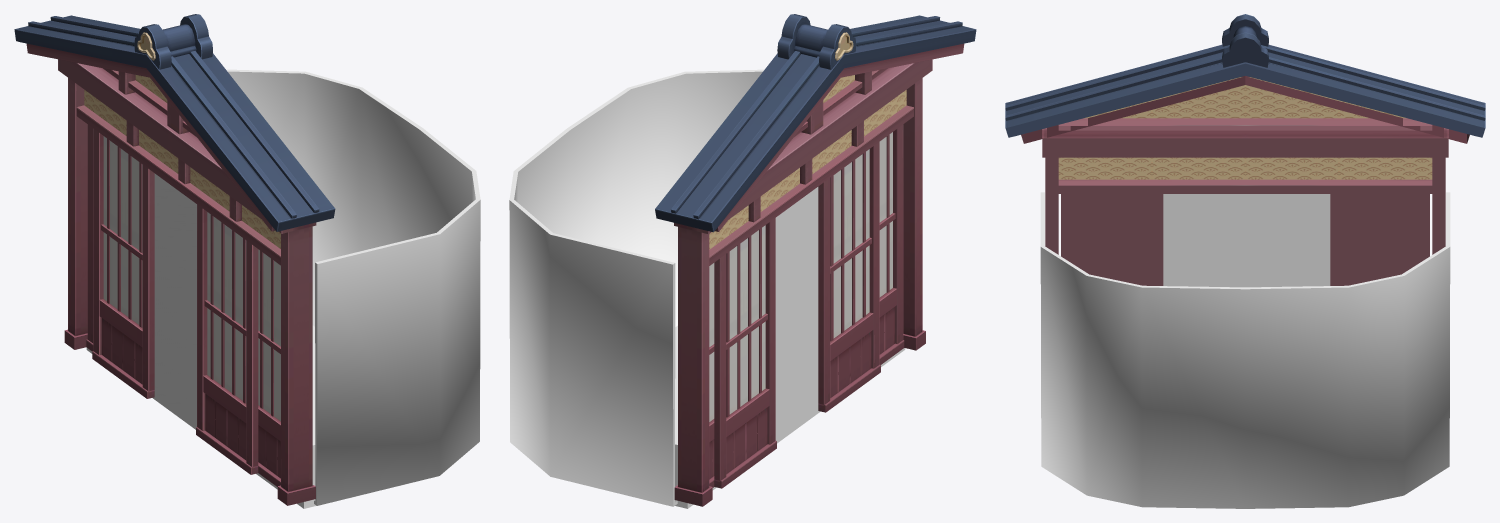
Rendered from my_hyakkiyako_01_balcony_01.glb.
3 renders of one model, left to right at view 1: azimuth 30°, elevation 25°; view 2: azimuth 150°, elevation 25°; view 3: azimuth 270°, elevation 25°, orthographic. The views are drawn at different scales.
Visible parts, largest first — view 1: my_hyakkiyako_01_balcony_01, my_hyakkiyako_01_balcony_01_cover, my_hyakkiyako_01_balcony_01_hole; view 2: my_hyakkiyako_01_balcony_01, my_hyakkiyako_01_balcony_01_cover, my_hyakkiyako_01_balcony_01_hole; view 3: my_hyakkiyako_01_balcony_01_cover, my_hyakkiyako_01_balcony_01, my_hyakkiyako_01_balcony_01_hole.
Part boxes in pixels (x1,y1,x2,y2): my_hyakkiyako_01_balcony_01: [14, 14, 335, 505]; my_hyakkiyako_01_balcony_01_cover: [86, 69, 480, 508]; my_hyakkiyako_01_balcony_01_hole: [154, 173, 196, 427]; my_hyakkiyako_01_balcony_01: [655, 14, 976, 506]; my_hyakkiyako_01_balcony_01_cover: [509, 69, 905, 508]; my_hyakkiyako_01_balcony_01_hole: [775, 187, 818, 441]; my_hyakkiyako_01_balcony_01_cover: [1040, 192, 1450, 508]; my_hyakkiyako_01_balcony_01: [1005, 14, 1485, 285]; my_hyakkiyako_01_balcony_01_hole: [1163, 194, 1330, 287].
Bounding box in the file's own units: 0.0211 × 0.03 × 0.0348.
5 materials, 3 textured.
